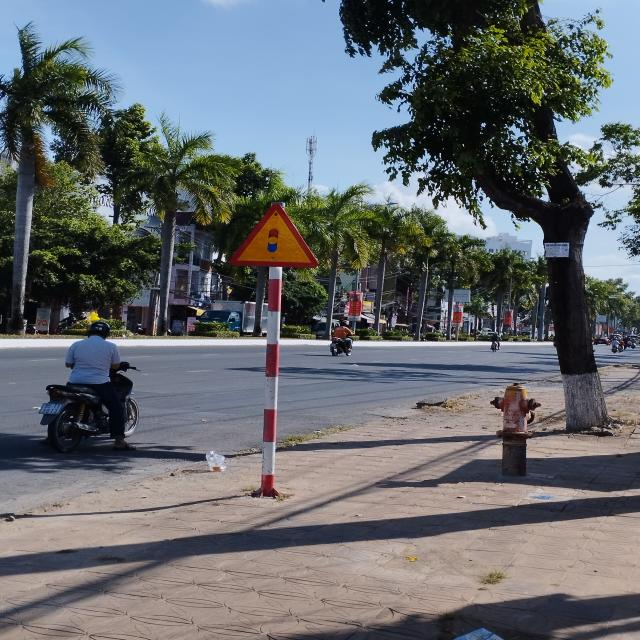Duong_Co_Go_Giam_Toc: (229, 202, 318, 269)
